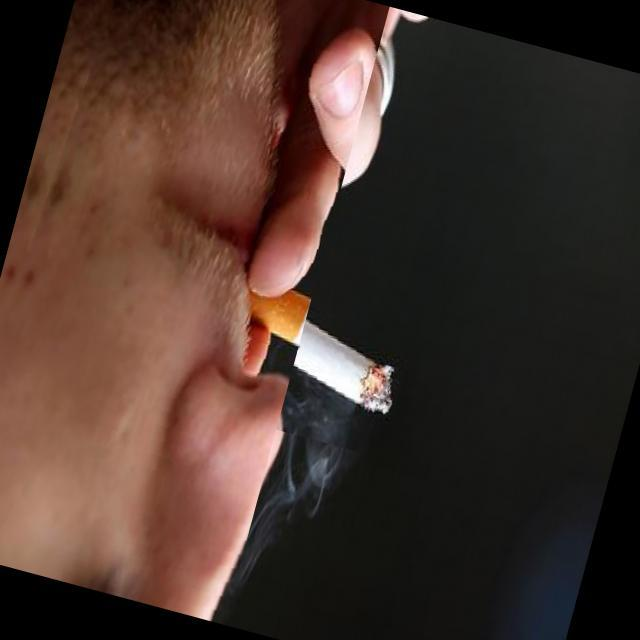cigarette: (156, 223, 430, 460)
